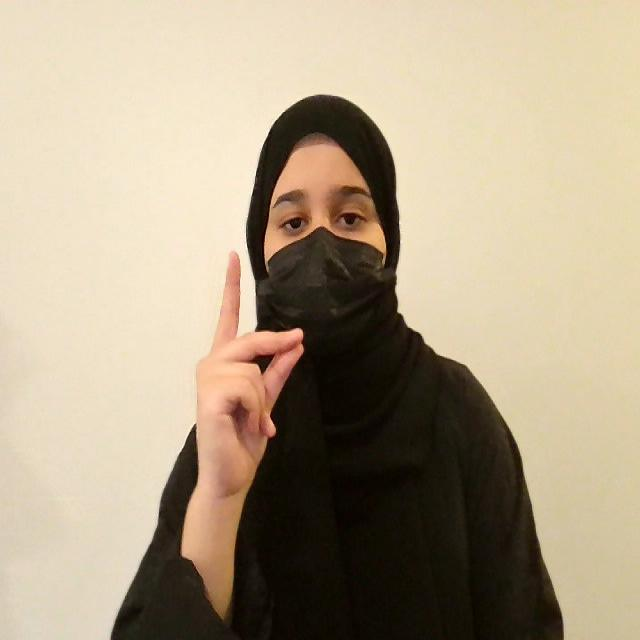emergency: (181, 248, 308, 517)
